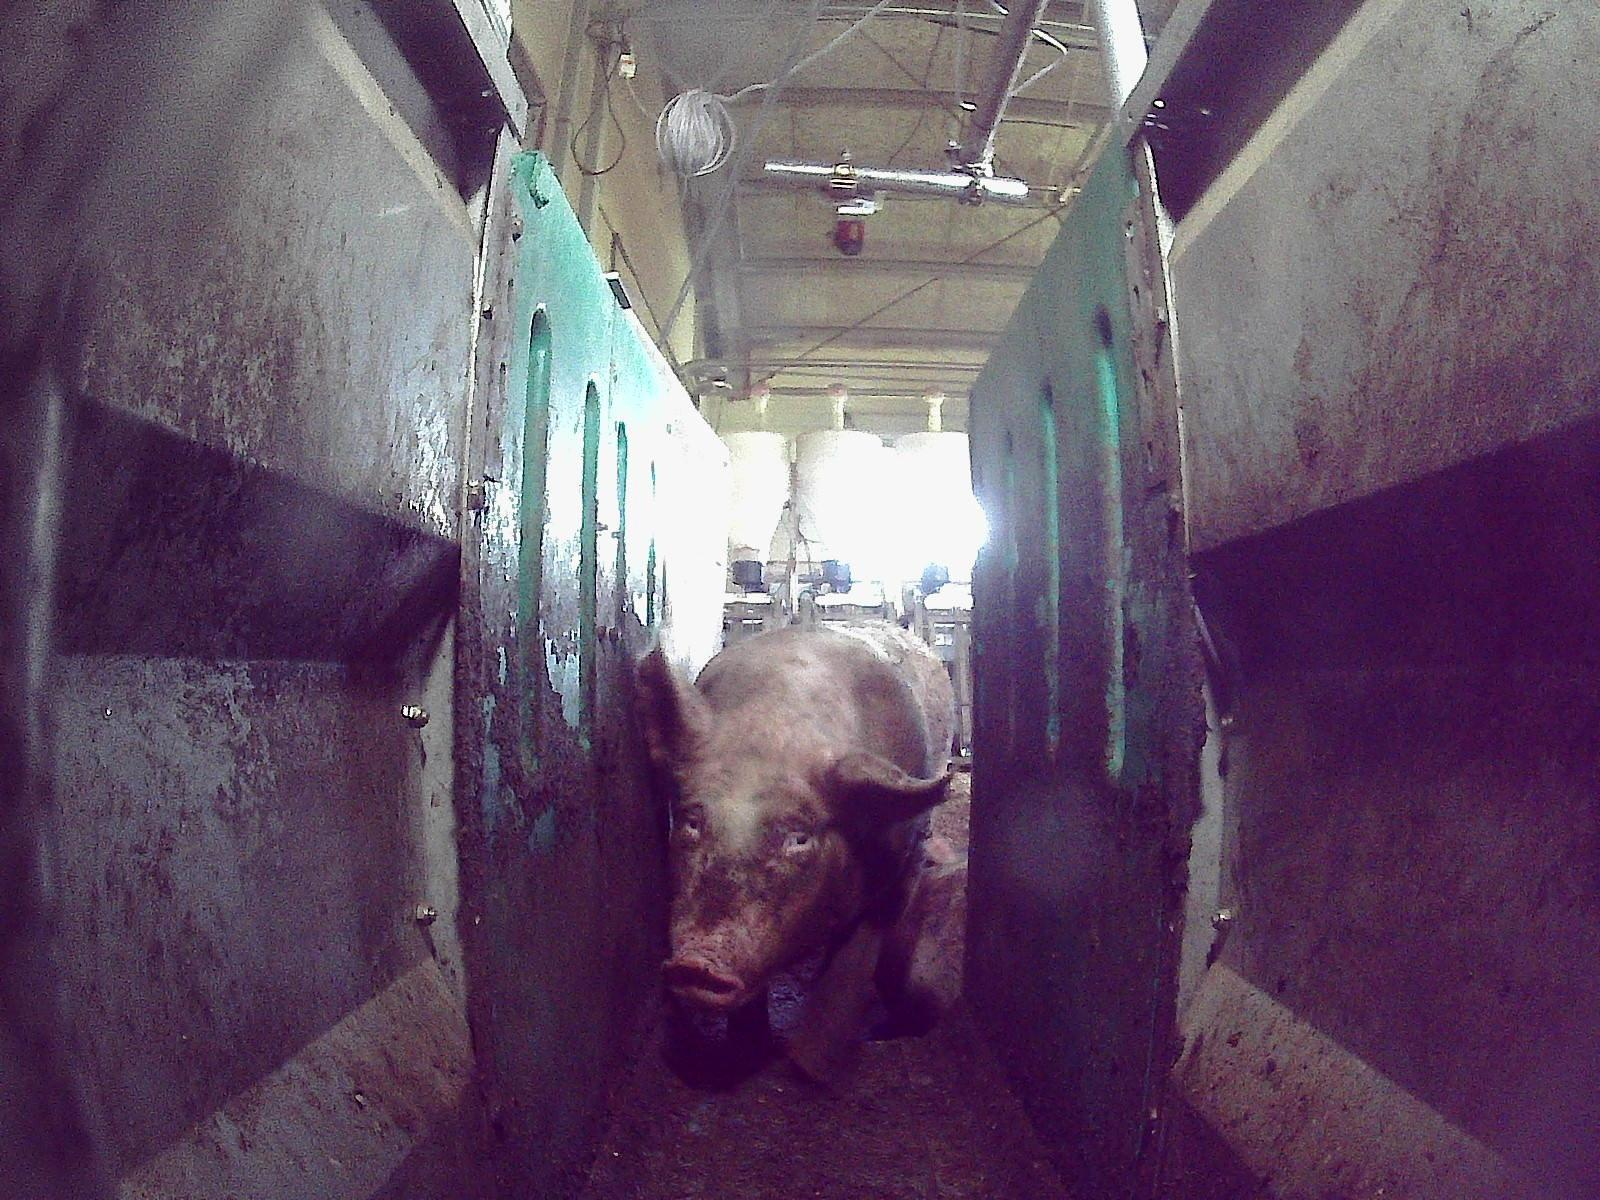Face: (660, 732, 855, 1004)
